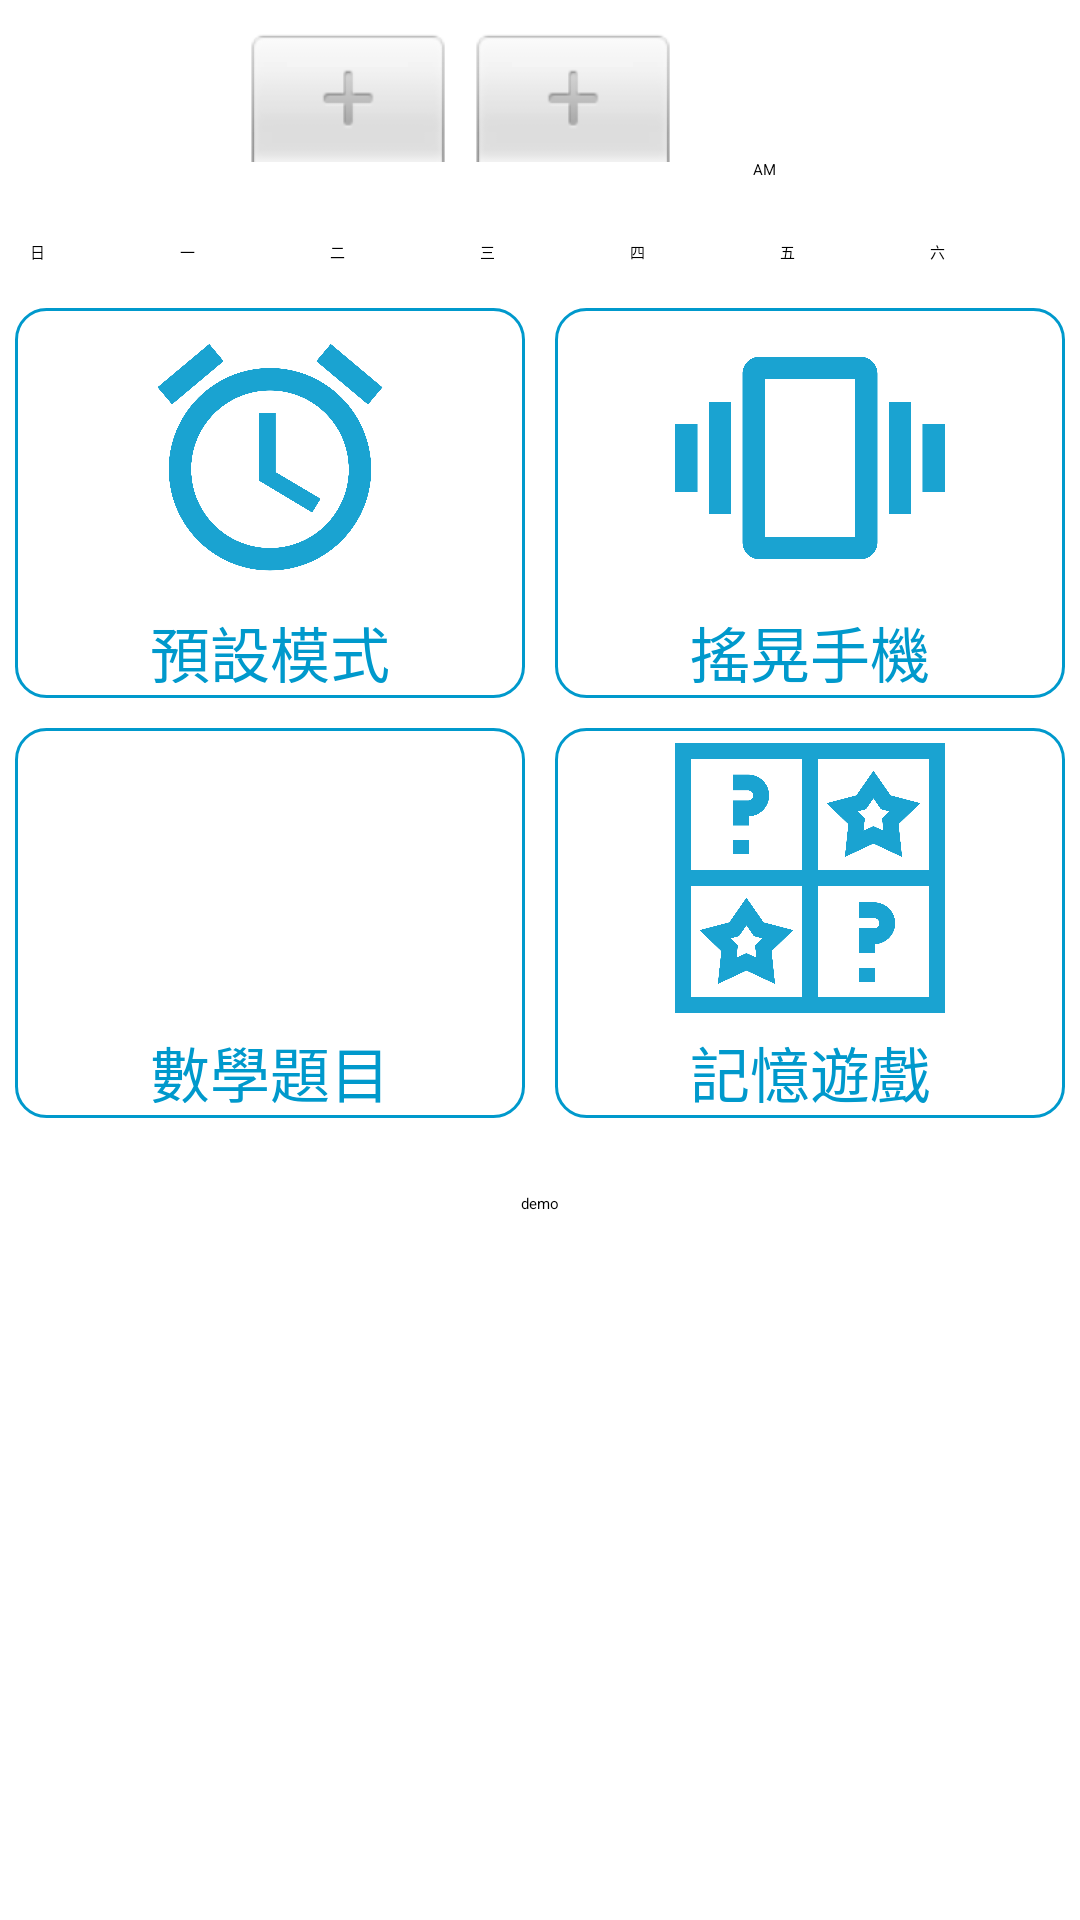

Named icons in this screenshot (1080 x 1920) and their centers, [x,y]:
alarm: [270,457]
vibration: [810,458]
